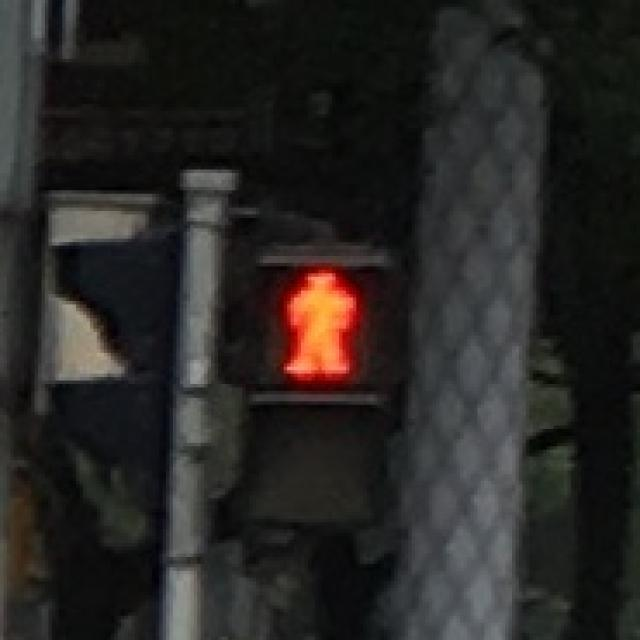red-crossing: (263, 259, 370, 384)
